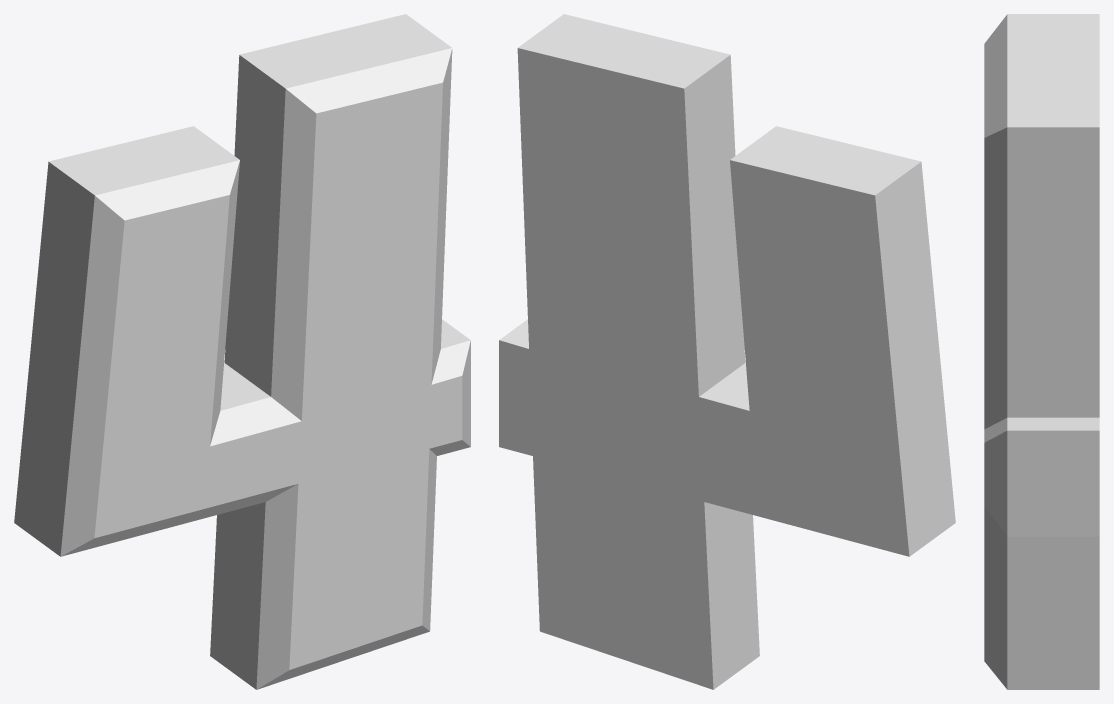
Rendered from LettersStylized01_4.FBX.
The picture shows the model from 3 angles, left to right: view 1: azimuth 30°, elevation 25°; view 2: azimuth 150°, elevation 25°; view 3: azimuth 270°, elevation 25°; orthographic projection.
Parts seen in each view (by area): view 1: LettersStylized01_4; view 2: LettersStylized01_4; view 3: LettersStylized01_4.
Part boxes in pixels (x1,y1,x2,y2): LettersStylized01_4: (14,14,470,689); LettersStylized01_4: (499,14,955,689); LettersStylized01_4: (984,14,1099,689).
Size of what is drawn, in the model's own units: 0.3391 by 0.4692 by 0.083.
